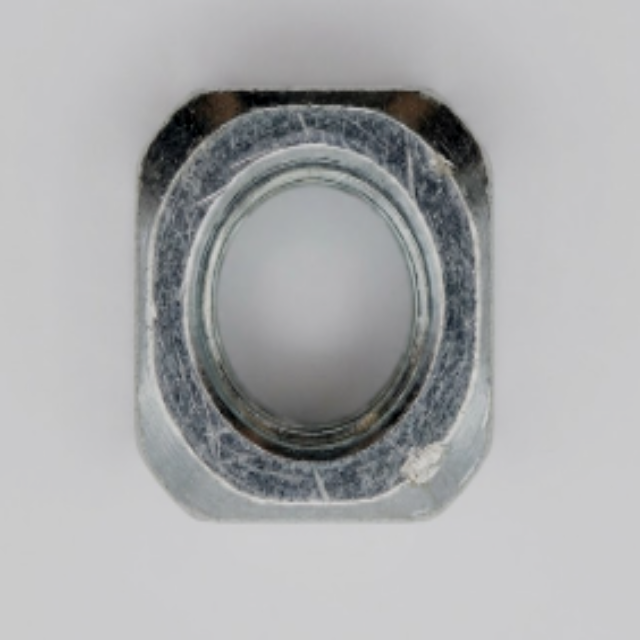defect: (397, 433, 453, 491), (416, 146, 458, 177)
